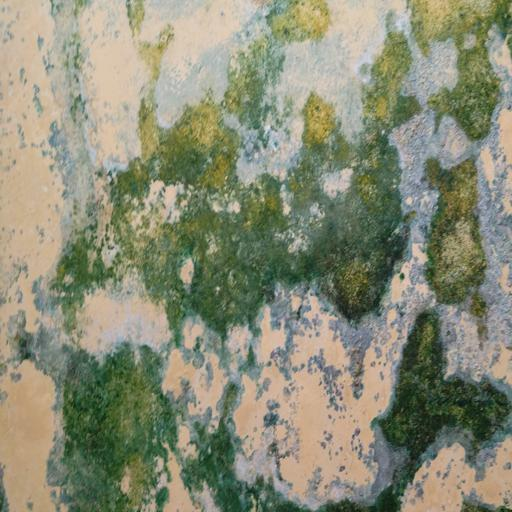algae: (47, 14, 512, 512)
